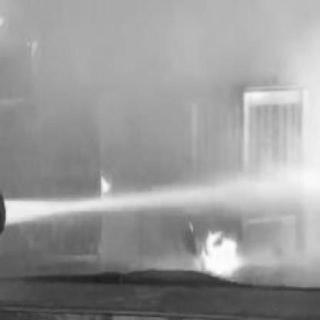Fire: (84, 162, 116, 200)
